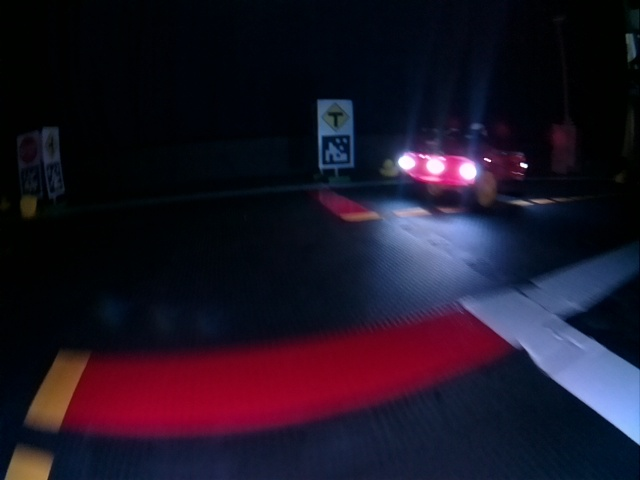Duckie: (20, 195, 37, 217), (380, 158, 398, 177)
Duckiebot: (401, 134, 529, 205)
Intersection sign: (321, 101, 351, 132), (44, 131, 59, 160)
QR code: (322, 135, 351, 165), (46, 163, 63, 194), (20, 168, 38, 196)
Stop sign: (18, 135, 39, 163)
